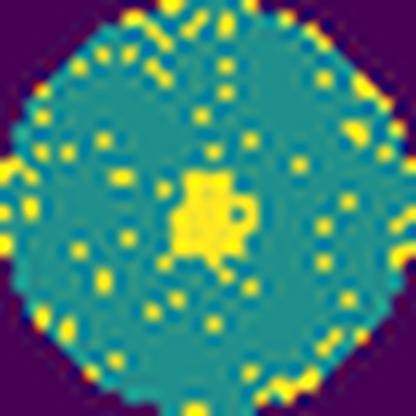Center: (166, 166, 259, 281)
